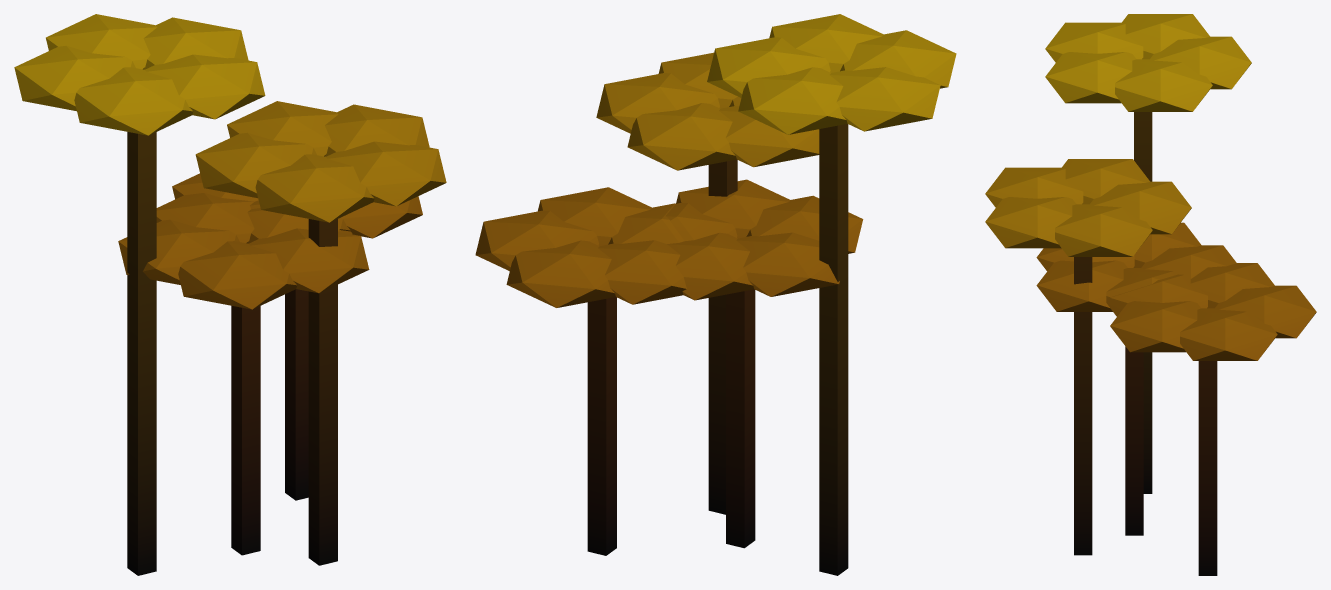
The model's file is wildflower.glb.
3 renders of one model, left to right at view 1: azimuth 30°, elevation 25°; view 2: azimuth 150°, elevation 25°; view 3: azimuth 270°, elevation 25°, orthographic. The views are drawn at different scales.
Parts seen in each view (by area): view 1: leaves_stem.002, leaves_stem.001, leaves_stem, flower_petal.003, flower_petal.008, flower_petal.013, leaves_stem.003, flower_petal.007, flower_petal.012, flower_petal.014, flower_petal.009, flower_petal.002 (+9 smaller); view 2: leaves_stem.002, leaves_stem, leaves_stem.003, flower_petal.015, flower_petal.005, flower_petal.010, flower_petal.014, leaves_stem.001, flower_petal.004, flower_petal.019, flower_petal, flower_petal.016 (+11 smaller); view 3: leaves_stem.001, leaves_stem.003, flower_petal.006, flower_petal.011, flower_petal.016, flower_petal.007, flower_petal.012, flower_petal.017, leaves_stem, flower_petal.002, flower_petal.010, flower_petal.005 (+12 smaller).
Part boxes in pixels (box(x1,y1,x2,y2)): leaves_stem.002: box(127, 132, 156, 575); leaves_stem.001: box(308, 219, 337, 565); leaves_stem: box(231, 305, 260, 555); flower_petal.003: box(178, 241, 296, 309); flower_petal.008: box(255, 154, 374, 222); flower_petal.013: box(74, 67, 193, 135); leaves_stem.003: box(285, 289, 308, 500); flower_petal.007: box(326, 141, 446, 206); flower_petal.012: box(145, 54, 265, 119); flower_petal.014: box(14, 45, 135, 111); flower_petal.009: box(195, 132, 316, 198); flower_petal.002: box(249, 228, 369, 293); leaves_stem.002: box(819, 124, 848, 575); leaves_stem: box(726, 289, 755, 548); leaves_stem.003: box(587, 297, 616, 555); flower_petal.015: box(506, 240, 615, 307); flower_petal.005: box(627, 103, 736, 170); flower_petal.010: box(738, 67, 847, 134); flower_petal.014: box(830, 67, 940, 131); leaves_stem.001: box(708, 159, 737, 514); flower_petal.004: box(736, 232, 839, 296); flower_petal.019: box(598, 240, 686, 304); flower_petal: box(667, 232, 753, 300); flower_petal.016: box(475, 210, 598, 271); leaves_stem.001: box(1074, 257, 1092, 555); leaves_stem.003: box(1198, 361, 1217, 575); flower_petal.006: box(1055, 204, 1152, 256); flower_petal.011: box(1115, 59, 1212, 111); flower_petal.016: box(1180, 308, 1277, 360); flower_petal.007: box(985, 197, 1075, 248); flower_petal.012: box(1045, 52, 1135, 103); flower_petal.017: box(1110, 301, 1201, 352); leaves_stem: box(1125, 346, 1143, 535); flower_petal.002: box(1036, 260, 1127, 311); flower_petal.010: box(1150, 36, 1251, 89); flower_petal.005: box(1090, 181, 1191, 234).
Size of the model in its own units: 0.4013 by 0.478 by 0.3234.
